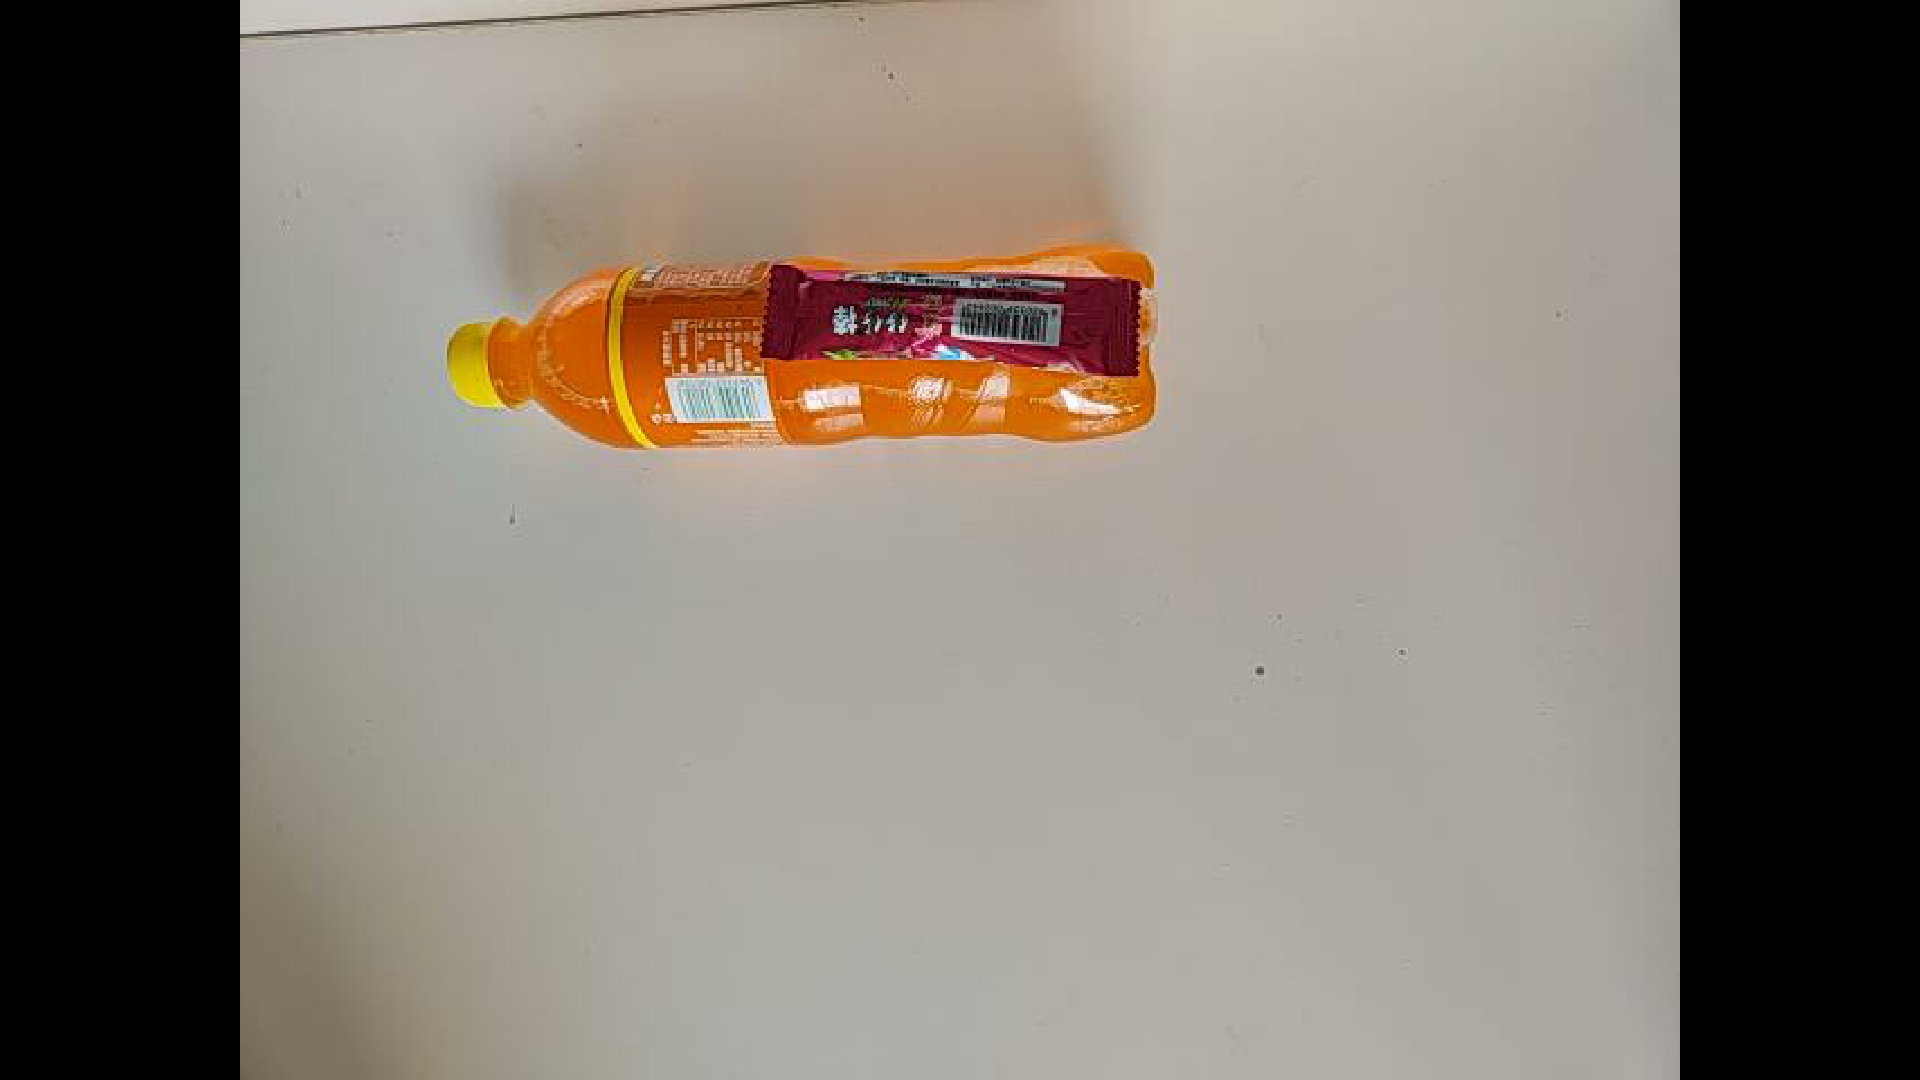fenta: (442, 248, 1167, 462)
sugar: (758, 264, 1142, 378)
